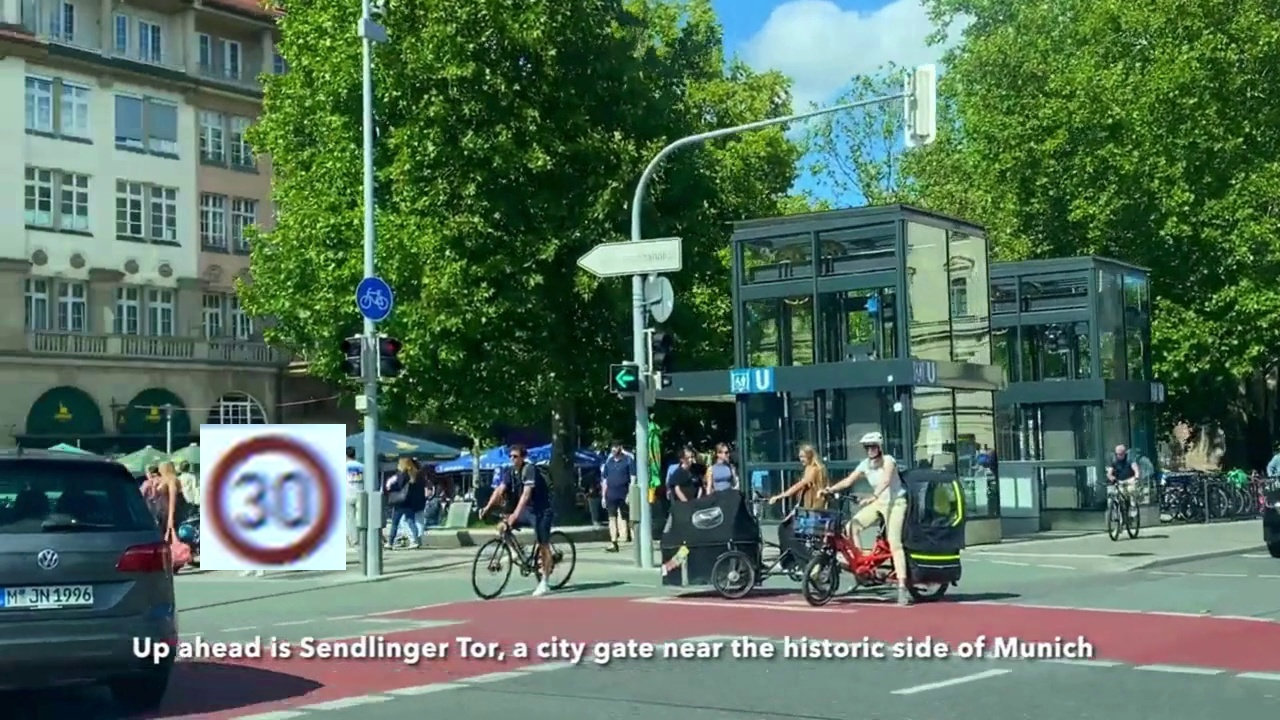Speed 30: (200, 424, 346, 570)
